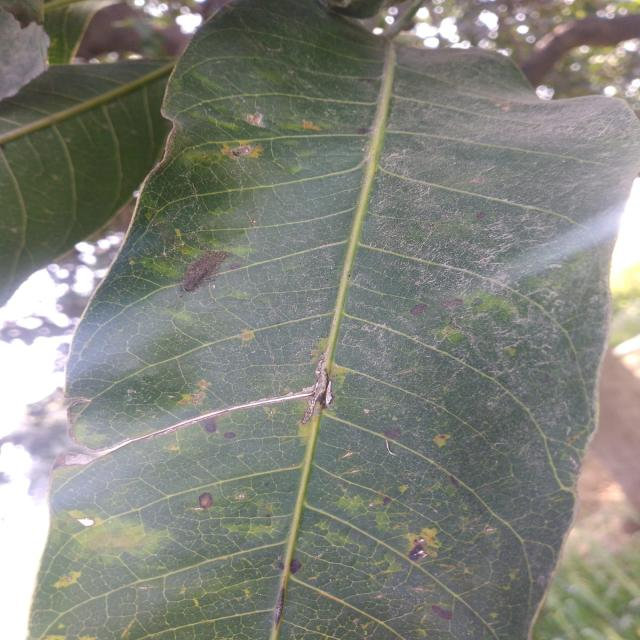Anthracnose: (64, 515, 183, 560), (407, 520, 459, 550), (226, 142, 279, 163)
black die: (174, 250, 232, 291)
